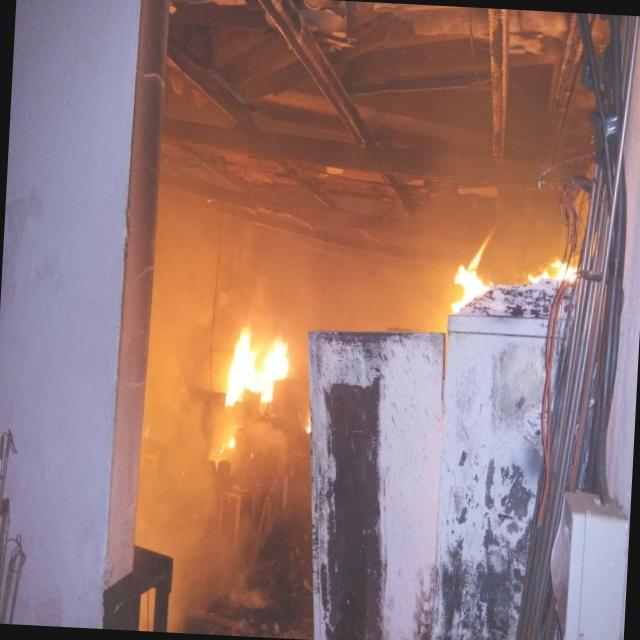fire: (406, 206, 586, 324), (204, 279, 307, 456)
